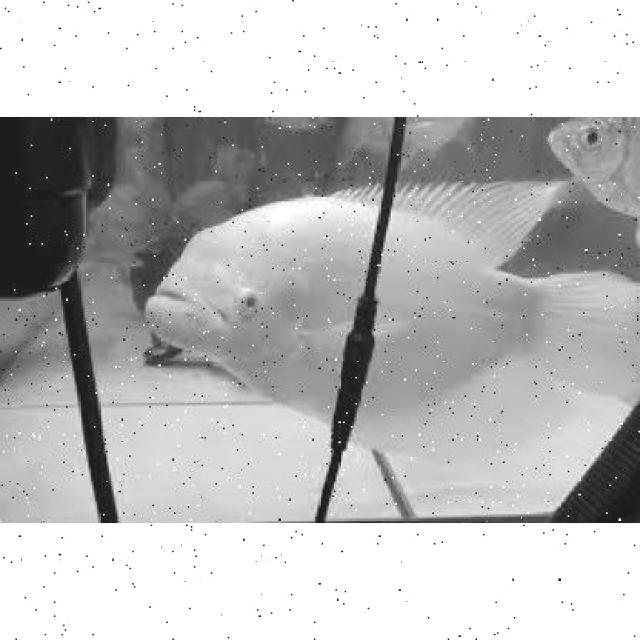gurame: (141, 186, 628, 420)
